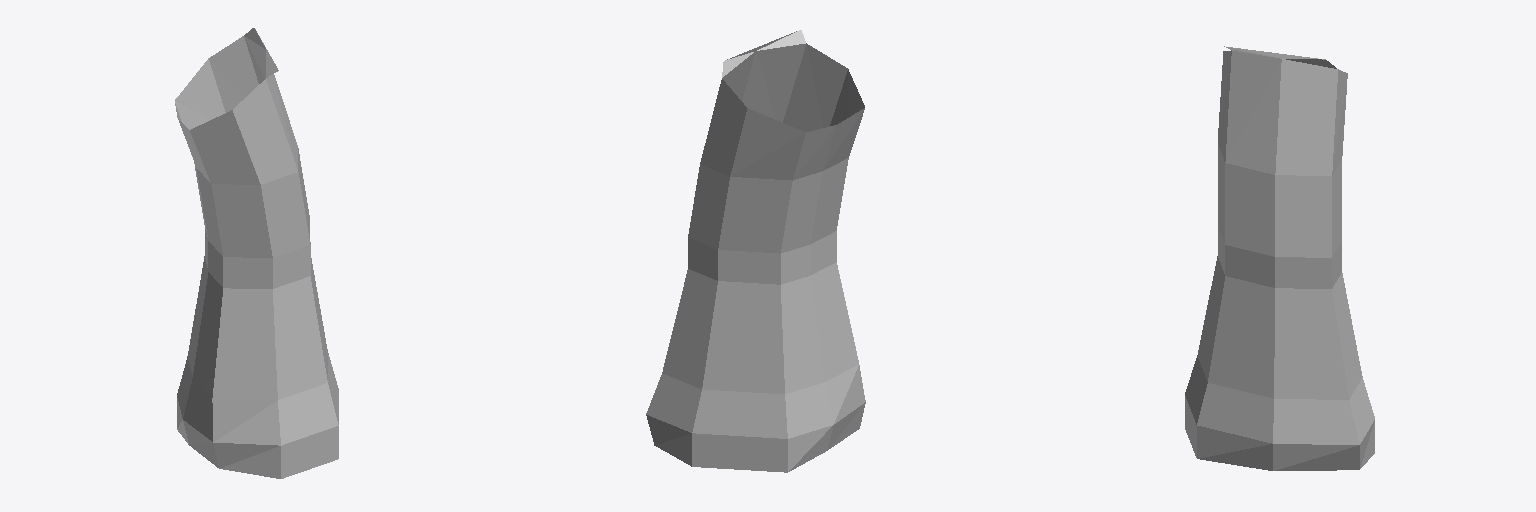
Rendered from littlebig-leftleg.obj.
The picture shows the model from 3 angles: view 1: azimuth 30°, elevation 25°; view 2: azimuth 150°, elevation 25°; view 3: azimuth 270°, elevation 25°; orthographic projection.
Parts seen in each view (by area): view 1: Circle; view 2: Circle; view 3: Circle.
Boxes of the visible parts, x1,y1,x2,y2 form: Circle: [175, 28, 338, 478]; Circle: [646, 30, 865, 472]; Circle: [1185, 46, 1374, 470].
Size of the model in its own units: 0.4785 by 1.16 by 0.4815.